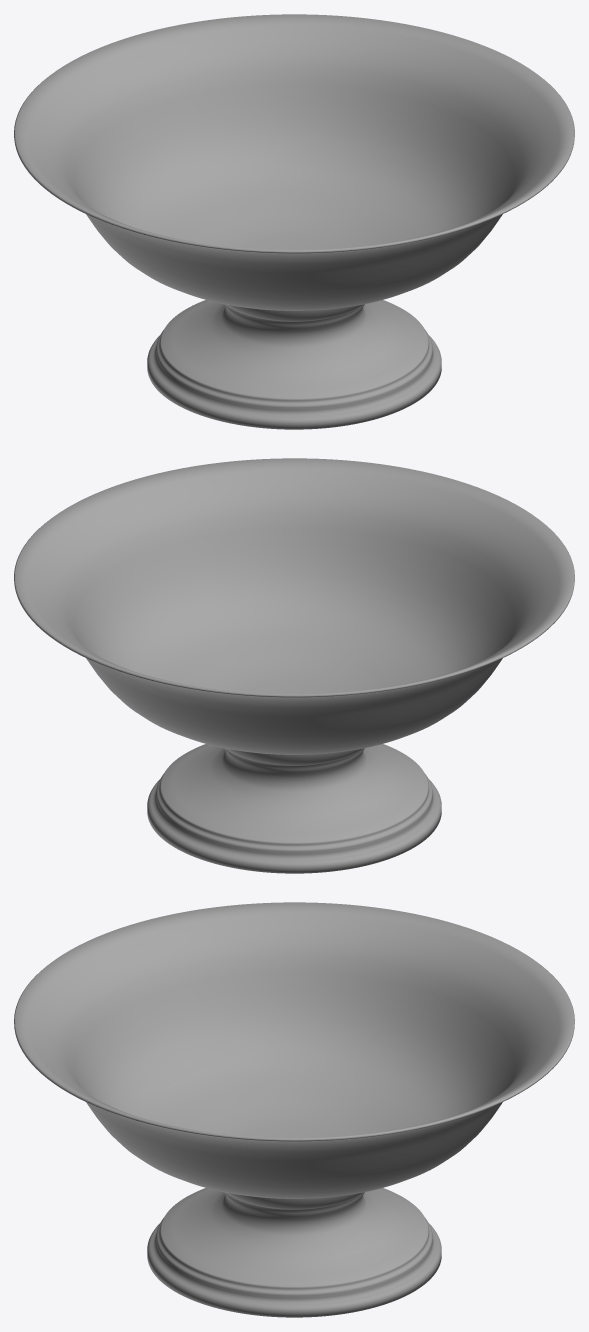
The model's file is pedestal_bowl.glb.
3 views of the same model, one above another, from view 1: azimuth 30°, elevation 25°; view 2: azimuth 150°, elevation 25°; view 3: azimuth 270°, elevation 25° (orthographic).
Parts seen in each view (by area): view 1: PedestalBowl; view 2: PedestalBowl; view 3: PedestalBowl.
Part boxes in pixels (<box>): PedestalBowl: <box>14,14,574,429</box>; PedestalBowl: <box>14,458,574,873</box>; PedestalBowl: <box>14,902,574,1317</box>.
Bounding box in the file's own units: 54.94 × 25.4 × 54.94.
Materials: 1 (1 with a texture image).
